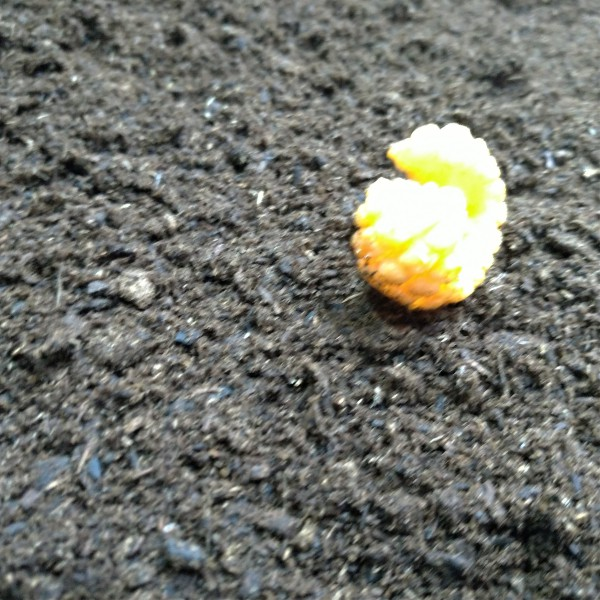eggs: (345, 119, 506, 314)
